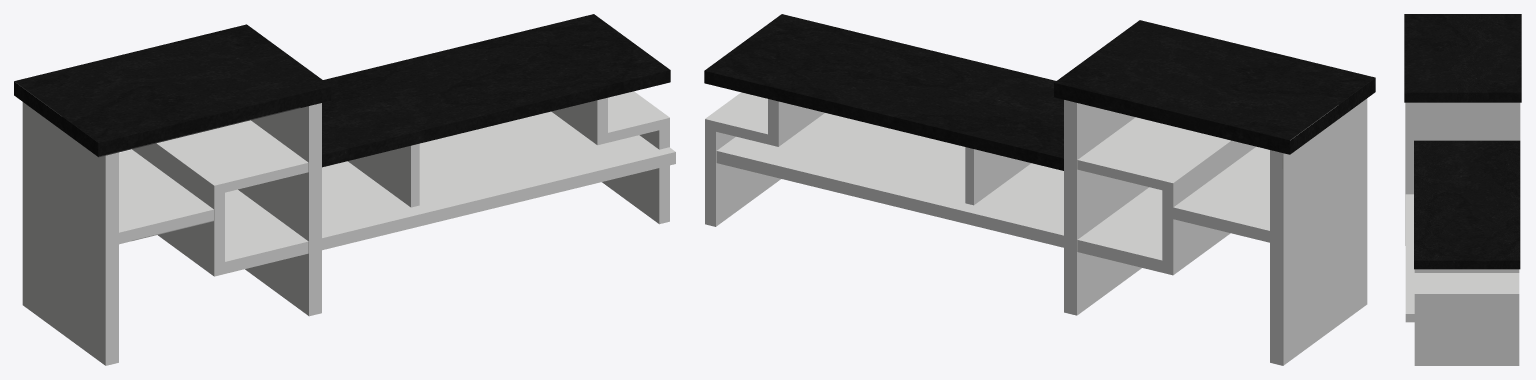
The picture shows the model from 3 angles, left to right: view 1: azimuth 30°, elevation 25°; view 2: azimuth 150°, elevation 25°; view 3: azimuth 270°, elevation 25°; orthographic projection. The views are drawn at different scales.
Visible parts, largest first — view 1: Marble TV Stand; view 2: Marble TV Stand; view 3: Marble TV Stand.
Part boxes in pixels (x1,y1,x2,y2): Marble TV Stand: (14,14,675,365); Marble TV Stand: (704,14,1375,365); Marble TV Stand: (1404,14,1521,365).
Bounding box in the file's own units: 3.66 × 1.36 × 0.9269.
1 material, 1 textured.
